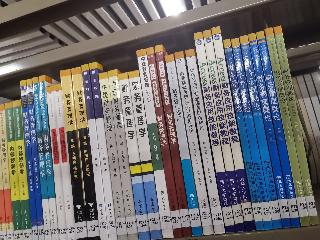book-spine: (253, 30, 302, 229), (264, 26, 311, 227), (236, 35, 284, 230), (211, 26, 256, 231), (202, 30, 247, 234), (192, 32, 237, 234), (274, 26, 319, 225), (221, 38, 265, 232), (248, 31, 291, 228), (230, 37, 273, 230), (173, 51, 217, 236), (184, 47, 227, 236), (163, 53, 204, 238), (153, 45, 192, 239), (135, 48, 174, 240), (145, 46, 183, 240), (127, 70, 164, 240), (105, 69, 140, 240), (118, 72, 151, 240), (88, 62, 119, 240), (57, 69, 89, 240), (96, 71, 128, 240), (71, 66, 100, 240), (42, 85, 70, 240), (51, 84, 77, 240), (36, 75, 60, 240), (81, 63, 101, 240), (31, 76, 52, 240), (25, 79, 45, 240), (20, 80, 39, 240), (3, 102, 24, 240), (13, 99, 31, 240), (0, 104, 15, 240)
